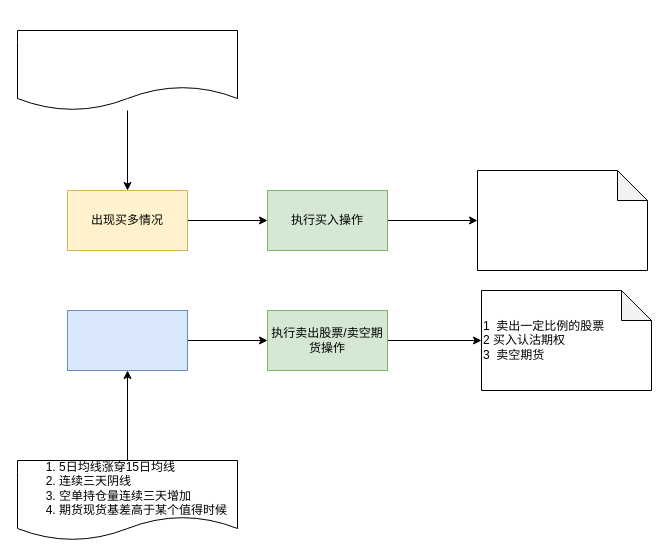
This 669x558 diagram has some shape labels left out. Each missing label, with the centre of its shape:
1 买入一定比例的股票 2 买入认购期权 3 买多期货: point (562, 220)
5日均线跌破15日均线 连续三天阳线 多单持仓量连续3天增加 期货现货基差低于某个值得时候: point (127, 70)
出现买空情况: point (127, 340)
